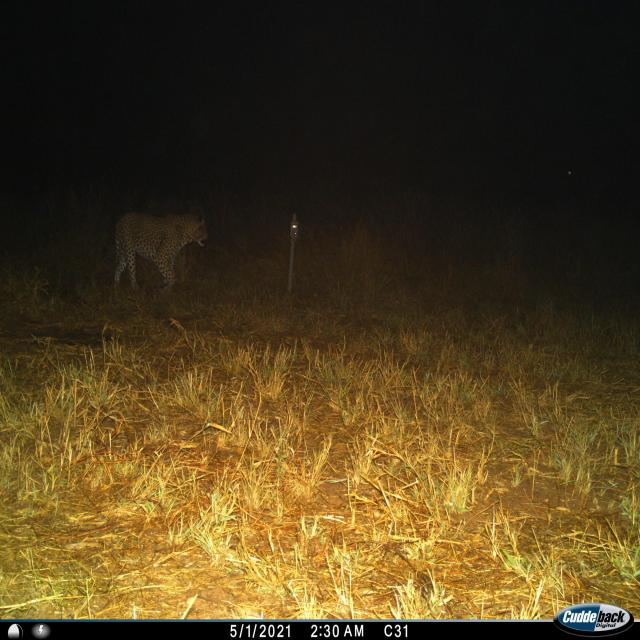Leopard: (99, 212, 212, 305)
